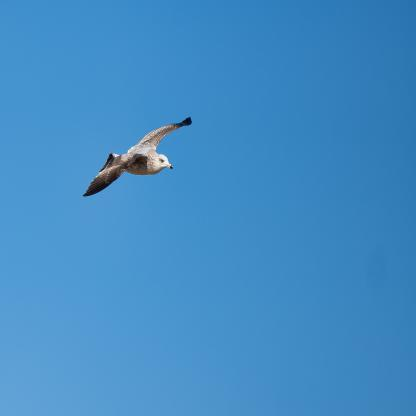bird: (82, 116, 192, 197)
